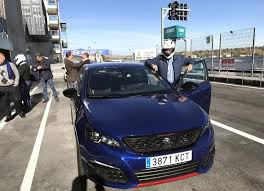car: (67, 61, 216, 183)
